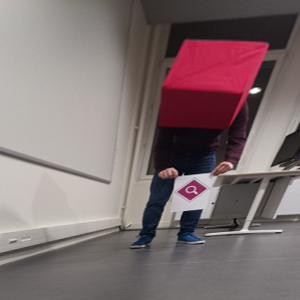search: (177, 179, 208, 202)
